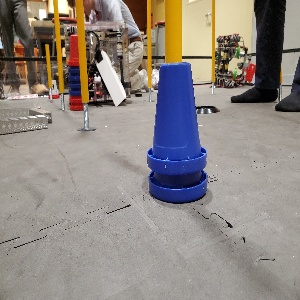Blue_2: (146, 63, 207, 202)
